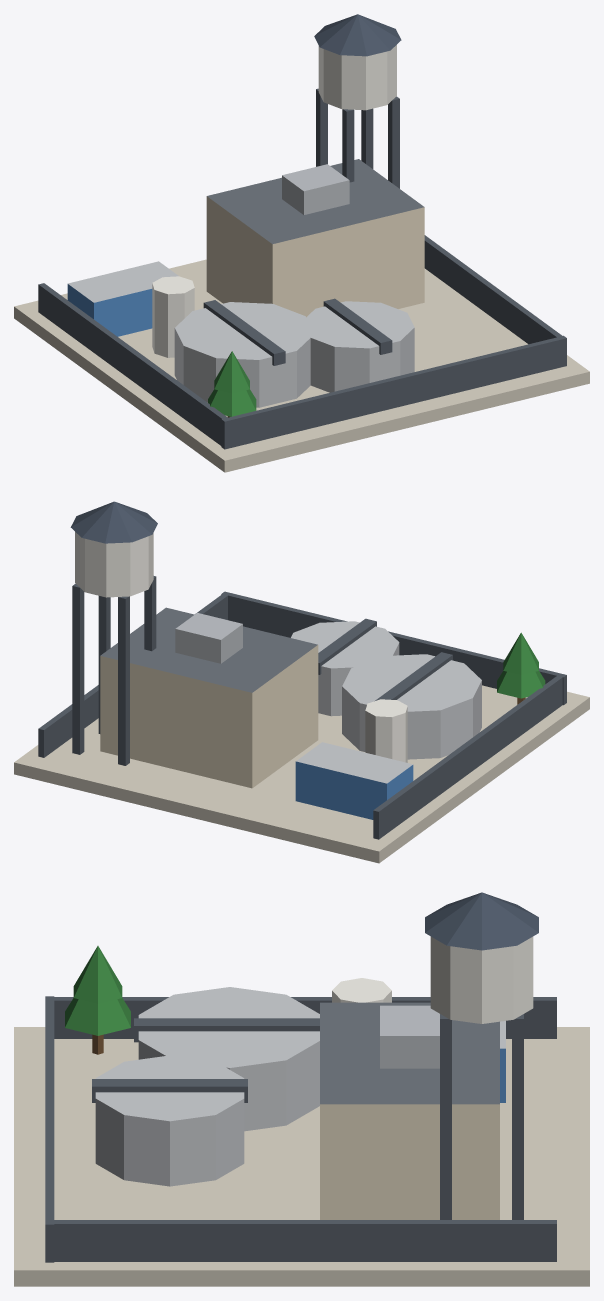
3 views of the same model, one above another, from view 1: azimuth 30°, elevation 25°; view 2: azimuth 150°, elevation 25°; view 3: azimuth 270°, elevation 25° (orthographic). The views are drawn at different scales.
Visible parts, largest first — view 1: b34; view 2: b34; view 3: b34.
Part boxes in pixels (box(x1,y1,x2,y2)): b34: box(14, 14, 589, 472); b34: box(14, 501, 589, 863); b34: box(14, 892, 589, 1286).
Bounding box in the file's own units: 0.96 × 0.65 × 0.96.
